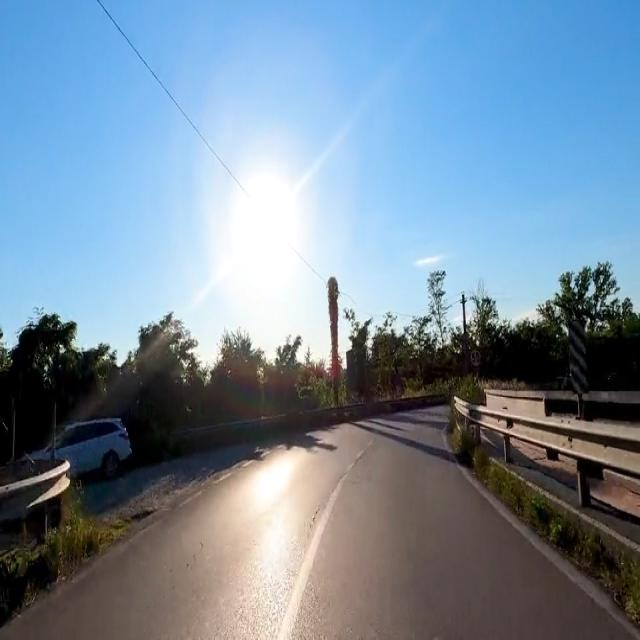lane: (279, 449, 365, 639)
road: (0, 405, 637, 638)
